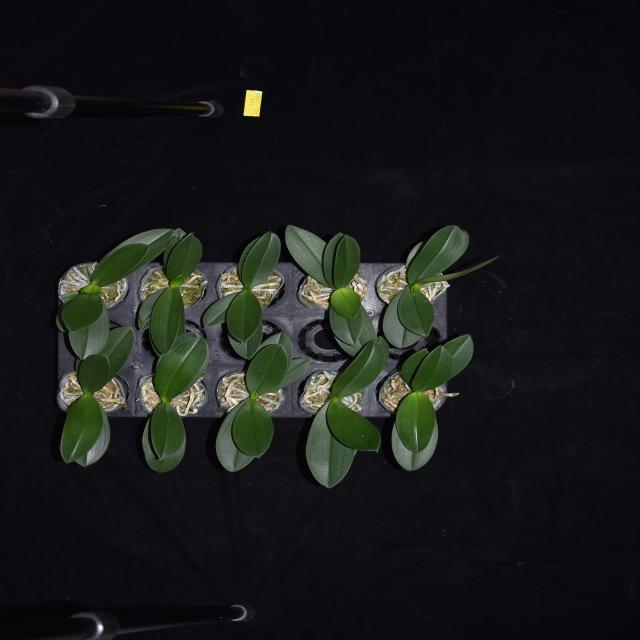leaf: (303, 396, 358, 488), (214, 396, 273, 473), (400, 223, 473, 285), (52, 394, 114, 466), (91, 219, 152, 289), (135, 400, 190, 472), (285, 221, 341, 286), (395, 390, 440, 470), (329, 339, 387, 395), (156, 336, 208, 398), (324, 399, 382, 454), (384, 286, 442, 336), (322, 222, 363, 292), (236, 227, 280, 288), (149, 287, 188, 351), (243, 344, 290, 395), (49, 292, 111, 330), (407, 344, 453, 390), (166, 227, 202, 284), (223, 292, 264, 341), (67, 353, 116, 392), (327, 291, 367, 338)
